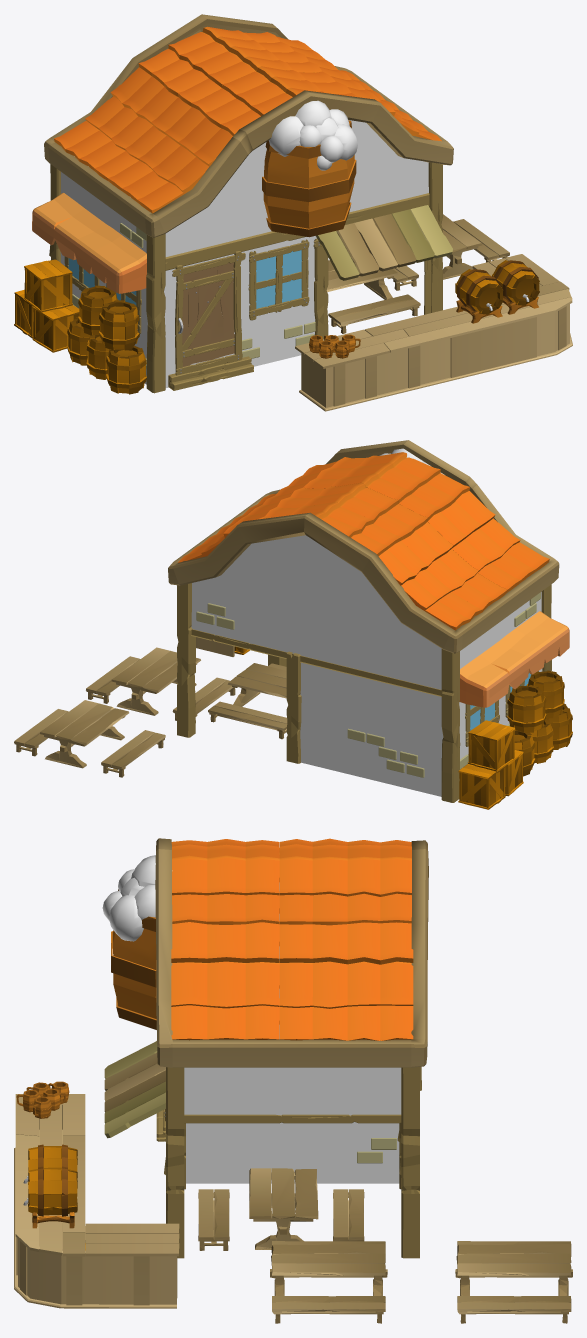
File: Tavern_01.fbx
3 renders of one model, top to bottom at view 1: azimuth 30°, elevation 25°; view 2: azimuth 150°, elevation 25°; view 3: azimuth 270°, elevation 25°, orthographic. The views are drawn at different scales.
Parts seen in each view (by area): view 1: Tavern, Counter, Beer_Sign, box3, Barrel_02, Barrel_01, barrel4, barrel, box2, bench_01, Table_02, barrel3 (+5 smaller); view 2: Tavern, Table_03, Table_02, box3, box1, Table_01, barrel3, bench_02, bench_04, barrel4, bench_05, bench_06 (+5 smaller); view 3: Tavern, Counter, Beer_Sign, Table_02, Table_03, Table_01, Barrel_01, bench_05, bench_06, bench_01, bench_02, Barrel_02.
Part boxes in pixels (<box>): Tavern: <box>32,14,453,393</box>; Counter: <box>295,254,572,411</box>; Beer_Sign: <box>262,100,357,237</box>; box3: <box>24,259,72,312</box>; Barrel_02: <box>455,269,503,323</box>; Barrel_01: <box>492,260,539,314</box>; barrel4: <box>99,300,139,350</box>; barrel: <box>106,345,146,394</box>; box2: <box>32,305,79,352</box>; bench_01: <box>328,294,420,333</box>; Table_02: <box>441,214,482,279</box>; barrel3: <box>78,285,118,335</box>; Tavern: <box>168,440,569,802</box>; Table_03: <box>40,700,129,768</box>; Table_02: <box>111,647,200,715</box>; box3: <box>468,720,515,771</box>; box1: <box>458,764,505,809</box>; Table_01: <box>227,663,286,706</box>; barrel3: <box>507,685,546,732</box>; bench_02: <box>208,701,287,739</box>; bench_04: <box>101,730,165,777</box>; barrel4: <box>527,670,564,718</box>; bench_05: <box>14,709,68,756</box>; bench_06: <box>86,656,140,703</box>; Tavern: <box>104,838,428,1258</box>; Counter: <box>14,1094,179,1308</box>; Beer_Sign: <box>102,855,172,1029</box>; Table_02: <box>270,1244,387,1295</box>; Table_03: <box>455,1244,572,1295</box>; Table_01: <box>249,1168,318,1249</box>; Barrel_01: <box>23,1166,77,1228</box>; bench_05: <box>457,1296,571,1323</box>; bench_06: <box>272,1296,385,1323</box>; bench_01: <box>198,1189,229,1250</box>; bench_02: <box>333,1189,364,1241</box>; Barrel_02: <box>23,1144,77,1188</box>.
Bounding box in the file's own units: 67.21 × 38.91 × 60.28.
